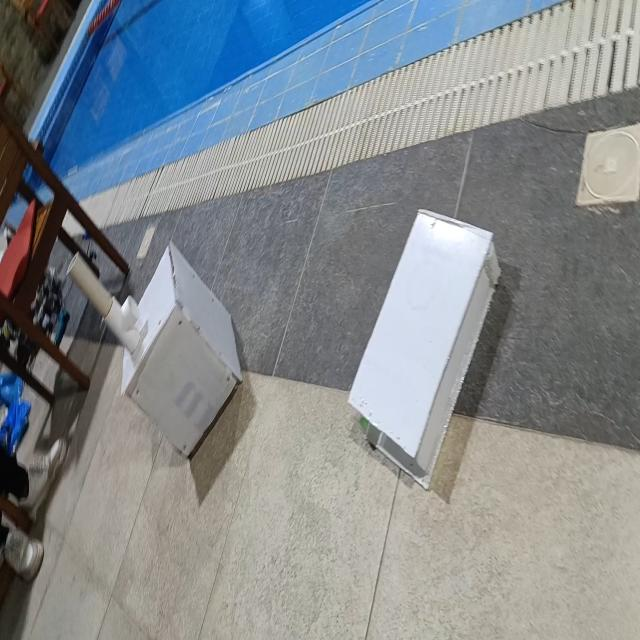Cube: (120, 239, 242, 460)
Cuboid: (346, 205, 500, 490)
